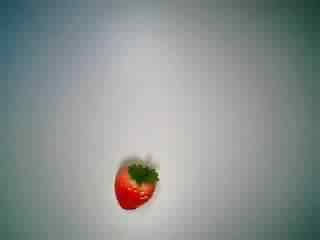strawberry: (103, 151, 169, 217)
